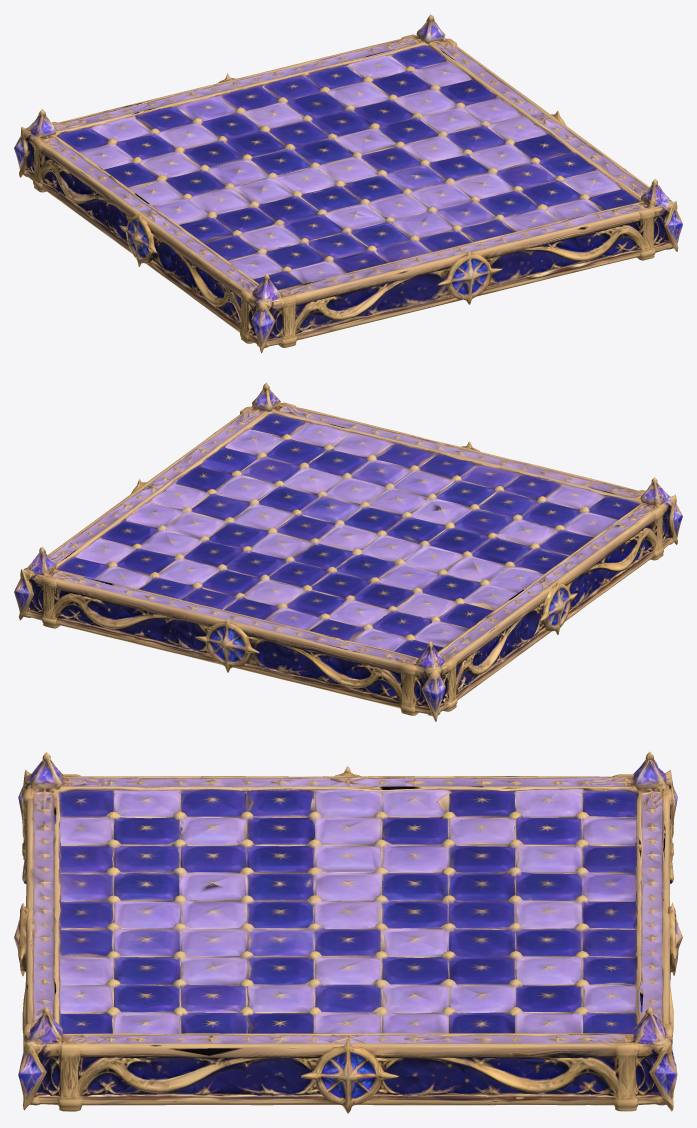
File: ornate-jewelry-box-runtime.glb
3 renders of one model, top to bottom at view 1: azimuth 30°, elevation 25°; view 2: azimuth 150°, elevation 25°; view 3: azimuth 270°, elevation 25°, orthographic. The views are drawn at different scales.
Parts seen in each view (by area): view 1: tripo_part_0, tripo_part_1, tripo_part_7, tripo_part_5, tripo_part_16, tripo_part_6, tripo_part_10, tripo_part_11, tripo_part_3, tripo_part_14, tripo_part_18, tripo_part_20 (+1 smaller); view 2: tripo_part_0, tripo_part_1, tripo_part_8, tripo_part_4, tripo_part_11, tripo_part_17, tripo_part_15, tripo_part_7, tripo_part_3, tripo_part_14, tripo_part_18, tripo_part_6; view 3: tripo_part_0, tripo_part_1, tripo_part_13, tripo_part_2, tripo_part_19, tripo_part_12, tripo_part_21, tripo_part_8, tripo_part_6, tripo_part_7, tripo_part_29, tripo_part_30 (+6 smaller).
Boxes of the visible parts, x1,y1,x2,y2 form: tripo_part_0: (33, 79, 473, 340); tripo_part_1: (231, 37, 649, 296); tripo_part_7: (240, 273, 305, 353); tripo_part_5: (437, 250, 502, 304); tripo_part_16: (295, 274, 420, 333); tripo_part_6: (629, 179, 675, 260); tripo_part_10: (515, 224, 642, 261); tripo_part_11: (14, 109, 56, 180); tripo_part_3: (119, 213, 157, 266); tripo_part_14: (40, 159, 115, 206); tripo_part_18: (176, 251, 241, 326); tripo_part_20: (664, 201, 682, 251); tripo_part_0: (225, 448, 663, 715); tripo_part_1: (47, 405, 475, 664); tripo_part_8: (19, 546, 60, 628); tripo_part_4: (195, 618, 264, 672); tripo_part_11: (412, 641, 448, 721); tripo_part_17: (54, 593, 189, 628); tripo_part_15: (287, 646, 401, 702); tripo_part_7: (637, 477, 677, 560); tripo_part_3: (540, 581, 577, 634); tripo_part_14: (456, 615, 525, 694); tripo_part_18: (587, 527, 656, 572); tripo_part_6: (250, 382, 296, 411); tripo_part_0: (26, 774, 673, 928); tripo_part_1: (25, 904, 671, 1111); tripo_part_13: (78, 1057, 263, 1096); tripo_part_2: (300, 1040, 398, 1113); tripo_part_19: (378, 1057, 509, 1097); tripo_part_12: (429, 1057, 617, 1096); tripo_part_21: (193, 1058, 318, 1096); tripo_part_8: (629, 1006, 673, 1111); tripo_part_6: (23, 1006, 66, 1105); tripo_part_7: (20, 751, 63, 859); tripo_part_29: (142, 1057, 210, 1081); tripo_part_30: (481, 1058, 561, 1081).
Size of the model in its own units: 0.9829 by 0.1587 by 0.9818.
Materials: 1 (1 with a texture image).
